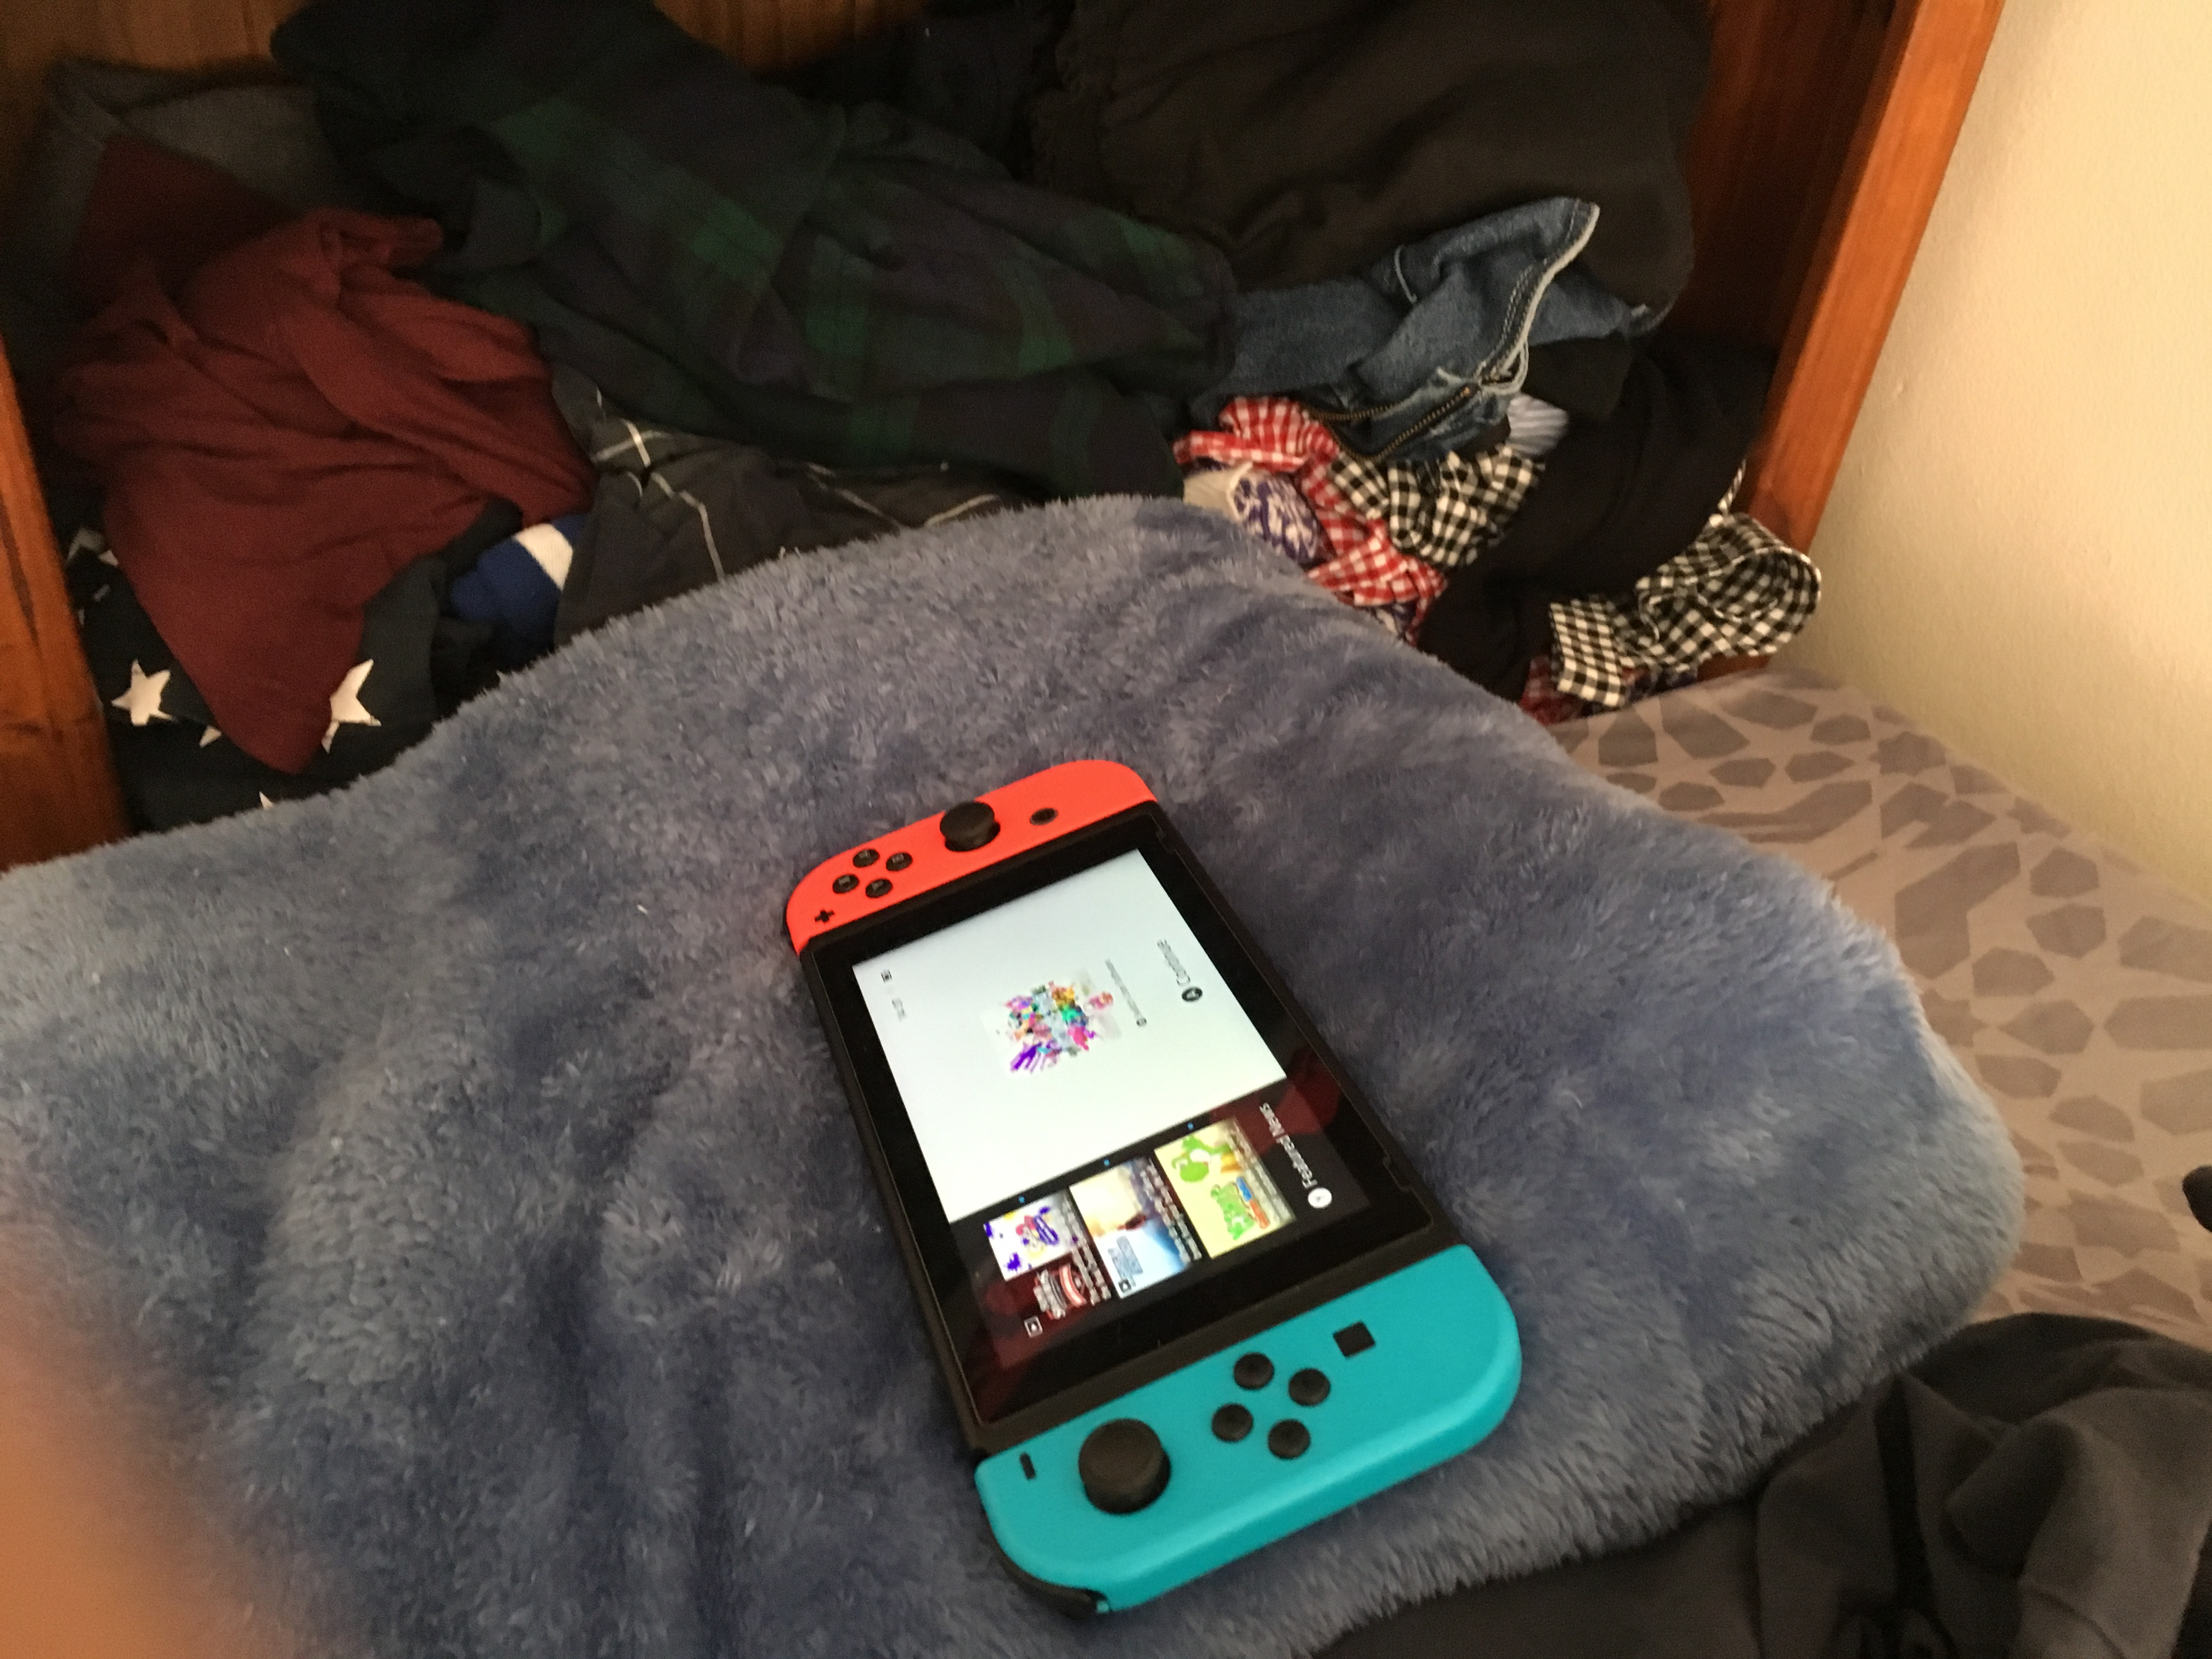NintendoSwitch: (772, 749, 1548, 1642)
